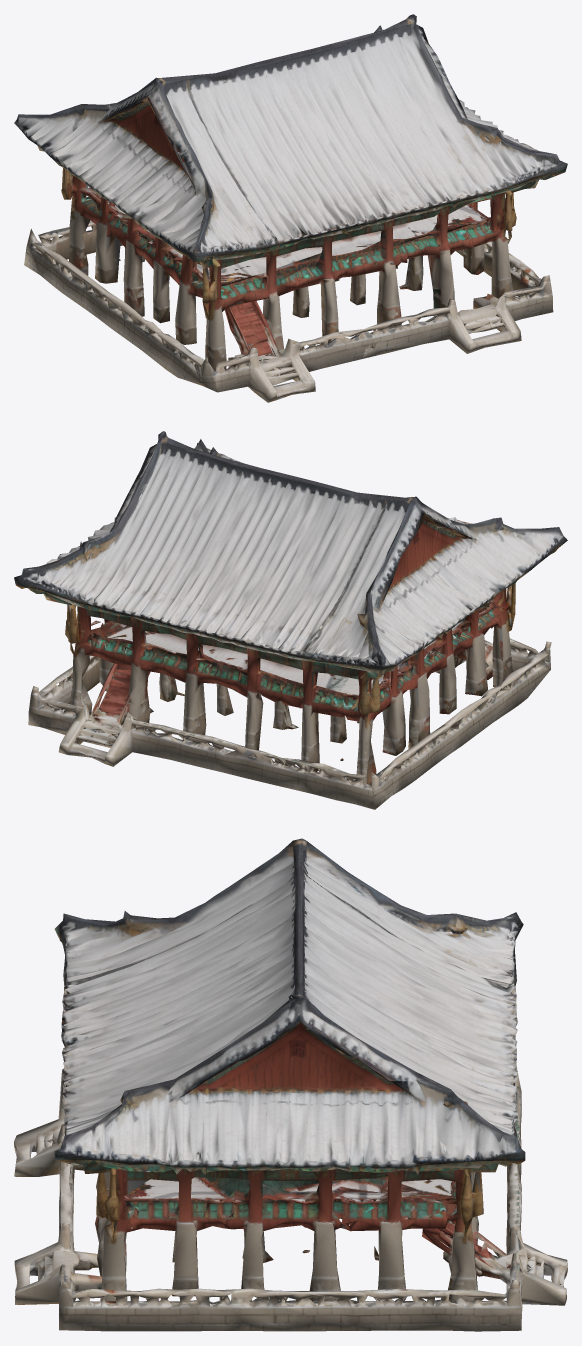
File: PR_Gyeonghoeru.fbx
3 views of the same model, one above another, from view 1: azimuth 30°, elevation 25°; view 2: azimuth 150°, elevation 25°; view 3: azimuth 270°, elevation 25° (orthographic). The views are drawn at different scales.
Parts seen in each view (by area): view 1: texture_mapping; view 2: texture_mapping; view 3: texture_mapping.
Part boxes in pixels (x1=…): texture_mapping: x1=14, y1=14, x2=567, y2=402; texture_mapping: x1=14, y1=431, x2=567, y2=809; texture_mapping: x1=14, y1=838, x2=567, y2=1331.
Size of the model in its own units: 0.983 by 0.992 by 0.6176.
Materials: 1 (1 with a texture image).
